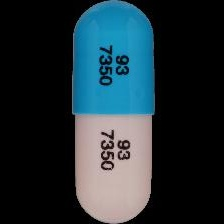42291-364: (0, 0, 224, 224)
